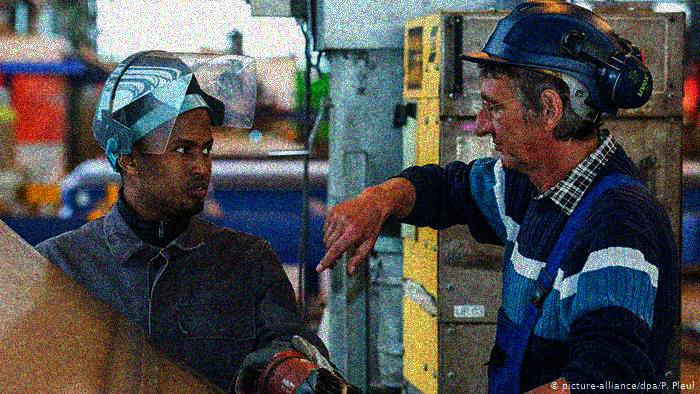helmet: (456, 1, 623, 168), (91, 44, 223, 216)
